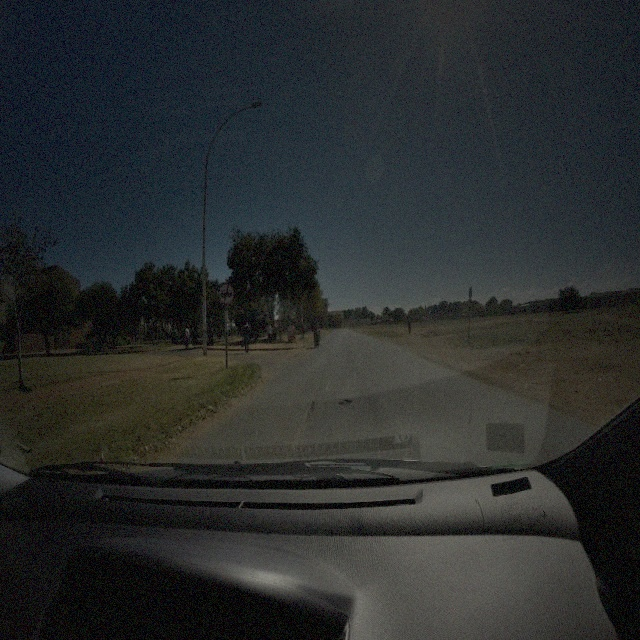pothole: (337, 394, 352, 408)
